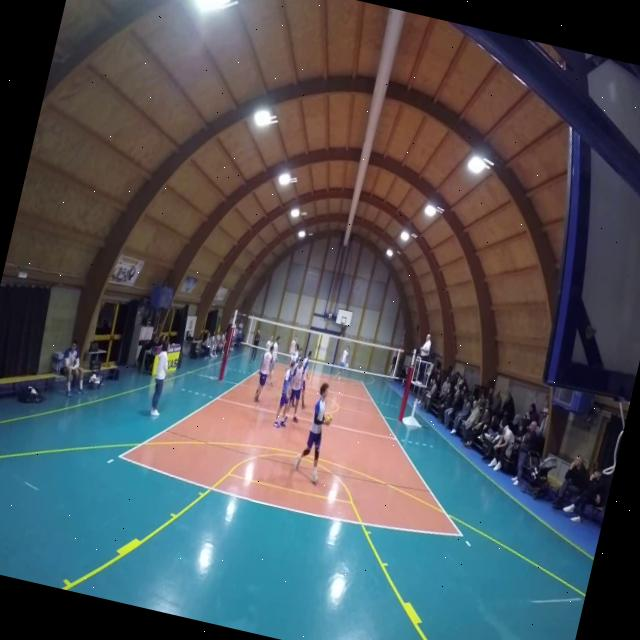Volleyball: (322, 412, 332, 426)
